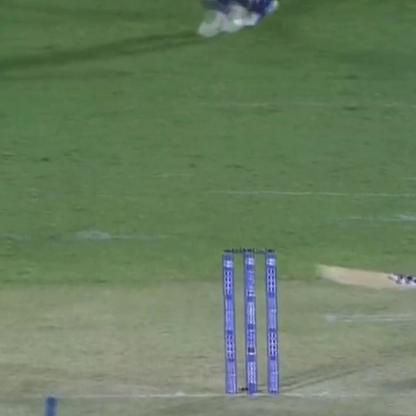bat: (315, 256, 415, 300)
